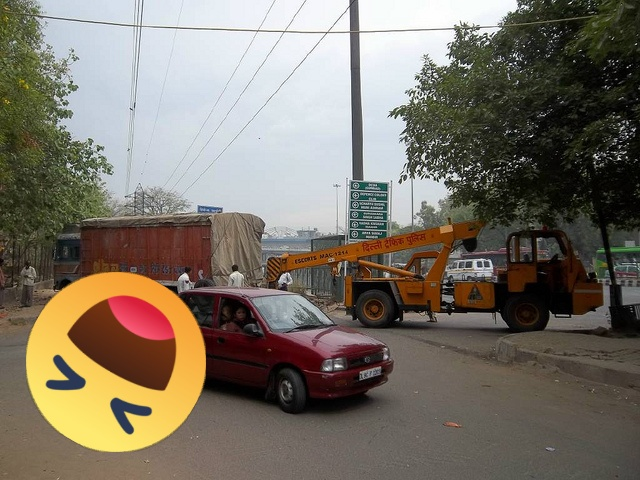haha: (26, 272, 206, 452)
